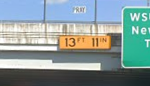1: (90, 37, 95, 48), (95, 37, 99, 48), (64, 37, 68, 47)
3: (68, 37, 76, 48)
overheadsign: (58, 35, 111, 49)
